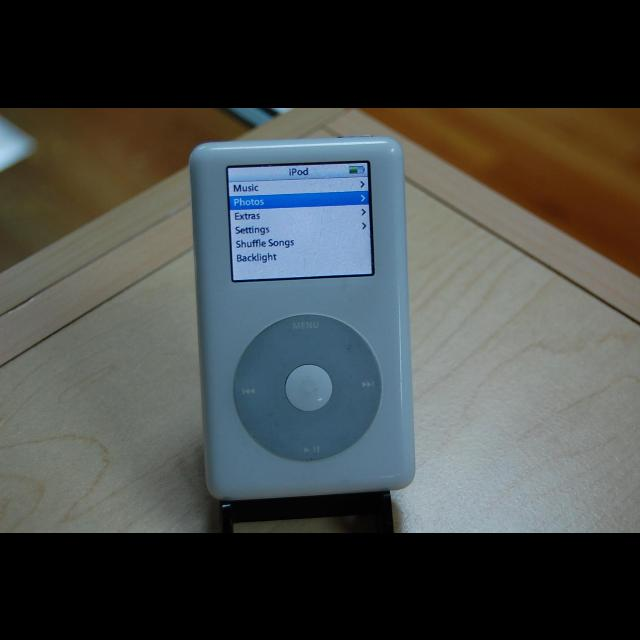Music-Player: (186, 125, 420, 503)
